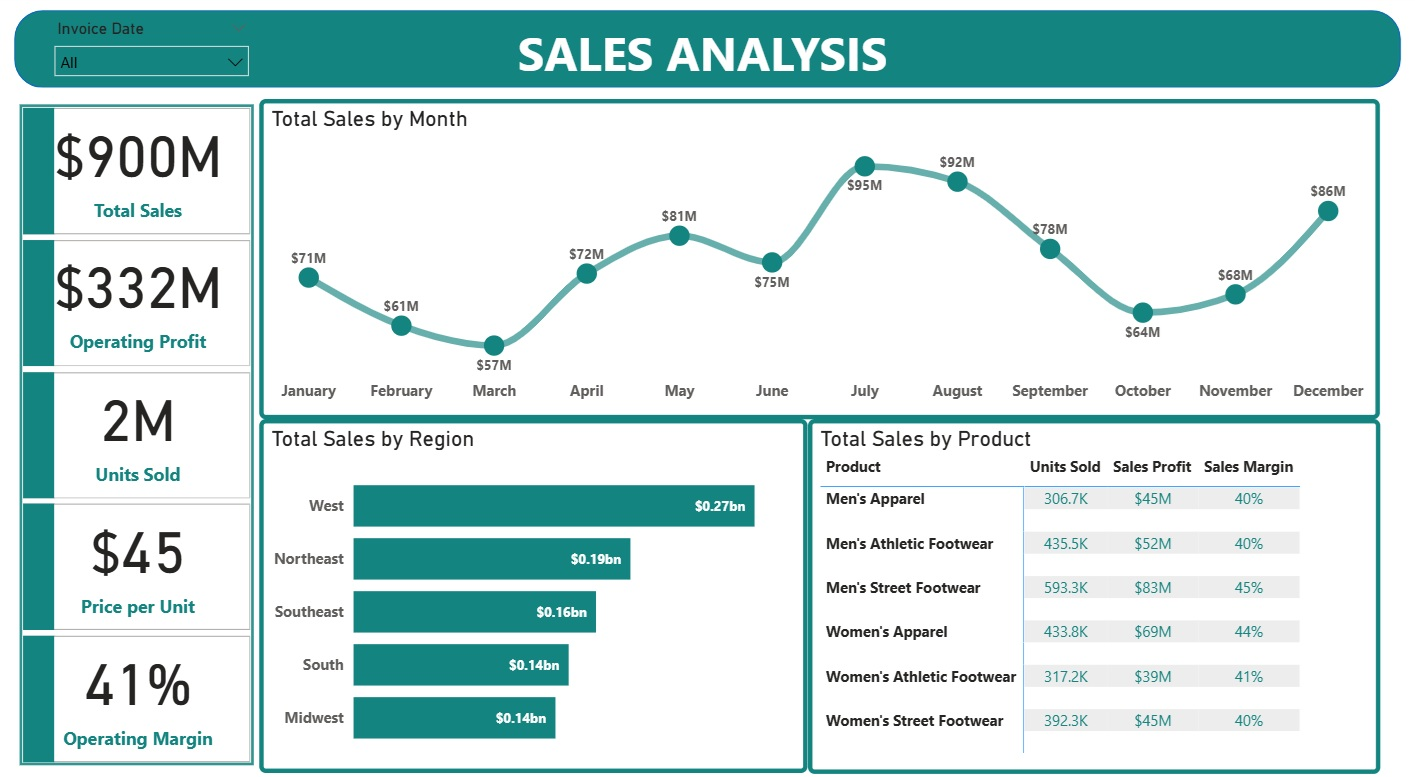

The dashboard page shown, as its layout file describes it:
{"tool":"powerbi","page":{"name":"Page 1","canvas":[1280,720],"ordinal":0},"visuals":[{"type":"shape","box":[15.1,15.1,1250.1,70],"z":0},{"type":"textbox","box":[441.9,17.8,387,67.2],"z":1000},{"type":"cardVisual","fields":{"Data":["Sum(Data Sales Adidas.Total Sales)","Sum(Data Sales Adidas.Operating Profit)","Sum(Data Sales Adidas.Units Sold)","Avg(Data Sales Adidas.Price per Unit)","Median(Data Sales Adidas.Operating Margin)"]},"box":[14.7,94.2,221.3,607.7],"z":2000},{"type":"lineChart","title":"Total Sales by Month","fields":{"Y":["Sum(Data Sales Adidas.Total Sales)"],"Category":["Data Sales Adidas.Invoice Date.Variation.Date Hierarchy.Month"]},"box":[236,94.2,1010.1,288.6],"z":3000},{"type":"barChart","title":"Total Sales by Region","fields":{"Y":["Sum(Data Sales Adidas.Total Sales)"],"Category":["Data Sales Adidas.Region"]},"box":[236,382.7,494,319.2],"z":4000},{"type":"pivotTable","title":"Total Sales by Product","fields":{"Rows":["Data Sales Adidas.Product"],"Values":["Sum(Data Sales Adidas.Units Sold)","Sum(Data Sales Adidas.Operating Profit)","Median(Data Sales Adidas.Operating Margin)"]},"box":[730,382.7,516,320.4],"z":5000},{"type":"slicer","fields":{"Values":["Data Sales Adidas.Invoice Date"]},"box":[40.4,18.3,195.7,56.3],"z":6000}]}

Visuals, with their boxes in screenshot pixels (x1, y1, x2, y2), scaled from the page's 1280x720 canvas onto the 1415x777 screenshot:
shape: <box>17,16,1399,92</box>
textbox: <box>489,19,916,92</box>
cardVisual - Sum(Data Sales Adidas.Total Sales) x Sum(Data Sales Adidas.Operating Profit): <box>16,102,261,757</box>
"Total Sales by Month" lineChart: <box>261,102,1378,413</box>
"Total Sales by Region" barChart: <box>261,413,807,757</box>
"Total Sales by Product" pivotTable: <box>807,413,1377,759</box>
slicer - Data Sales Adidas.Invoice Date: <box>45,20,261,81</box>
